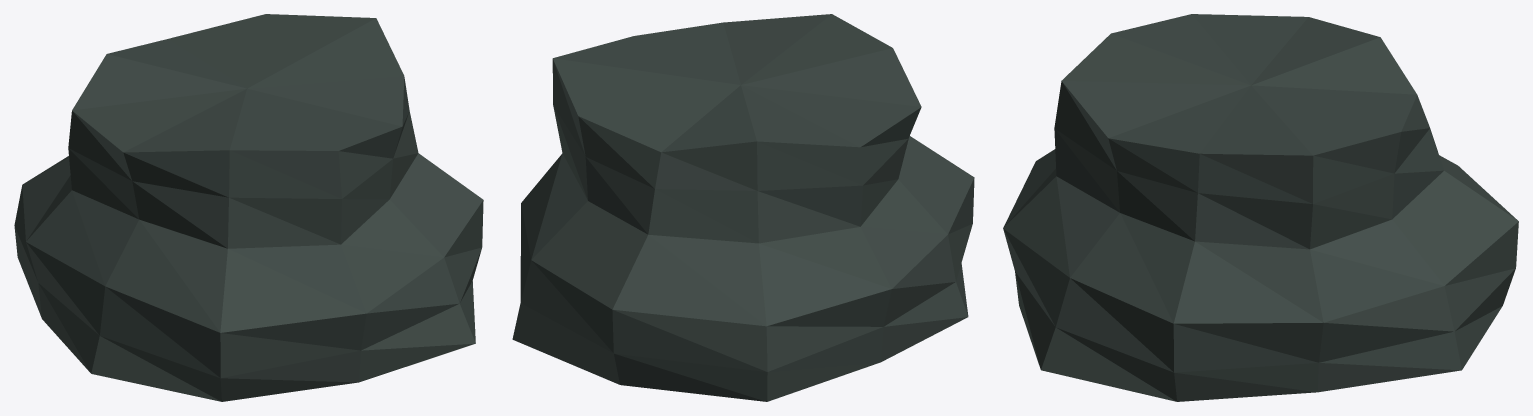
3 renders of one model, left to right at view 1: azimuth 30°, elevation 25°; view 2: azimuth 150°, elevation 25°; view 3: azimuth 270°, elevation 25°, orthographic. The views are drawn at different scales.
Parts seen in each view (by area): view 1: 破岩形状与干湿色尺寸族; view 2: 破岩形状与干湿色尺寸族; view 3: 破岩形状与干湿色尺寸族.
Part boxes in pixels (left/top/right/bottom): 破岩形状与干湿色尺寸族: left=14, top=14, right=483, bottom=401; 破岩形状与干湿色尺寸族: left=512, top=14, right=974, bottom=401; 破岩形状与干湿色尺寸族: left=1003, top=14, right=1518, bottom=401.
Size of the model in its own units: 6.75 by 3.86 by 7.42.
2 materials, 2 textured.
